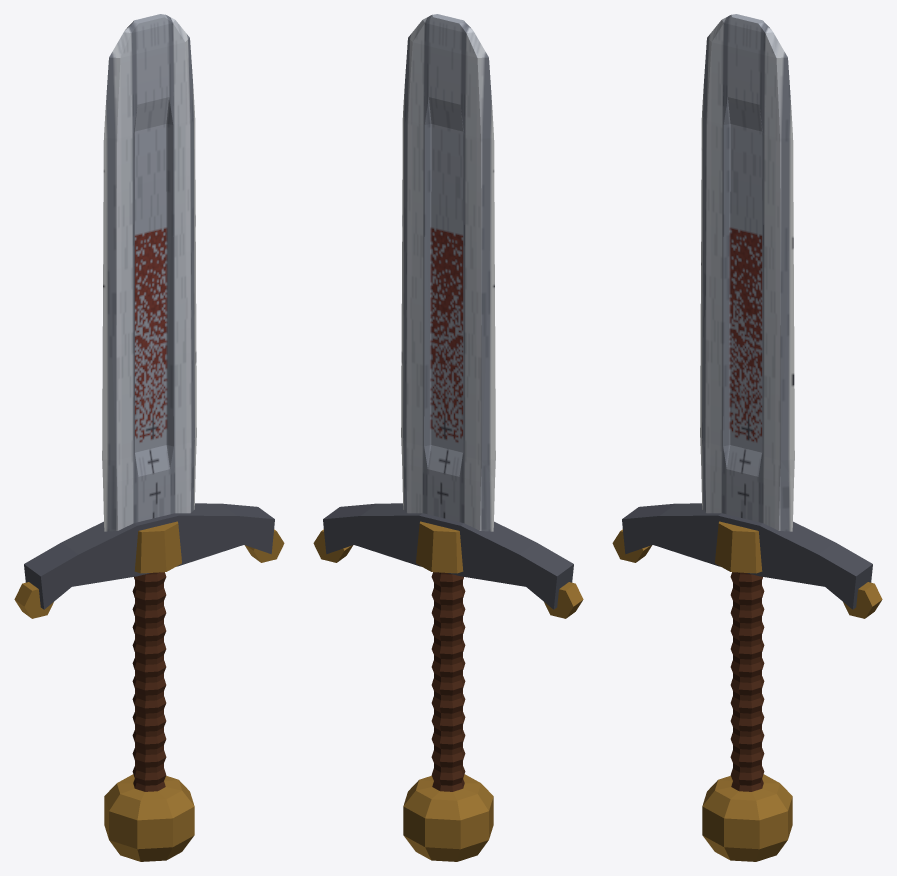
Rendered from executioner.obj.
3 views of the same model, side by side, from view 1: azimuth 30°, elevation 25°; view 2: azimuth 150°, elevation 25°; view 3: azimuth 330°, elevation 25° (orthographic).
Parts seen in each view (by area): view 1: A_Blade.001_executioner_blade, B_Guard.001_executioner_iron, C_Grip.001_executioner_leather, C_Pommel.001_executioner_brass, B_Collar.001_executioner_brass, B_StudL.001_executioner_brass; view 2: A_Blade.001_executioner_blade, B_Guard.001_executioner_iron, C_Grip.001_executioner_leather, C_Pommel.001_executioner_brass, B_Collar.001_executioner_brass, B_StudL.001_executioner_brass; view 3: A_Blade.001_executioner_blade, B_Guard.001_executioner_iron, C_Grip.001_executioner_leather, C_Pommel.001_executioner_brass, B_Collar.001_executioner_brass, B_StudR.001_executioner_brass.
Part boxes in pixels (left/top/right/bottom): A_Blade.001_executioner_blade: left=102, top=14, right=196, bottom=531; B_Guard.001_executioner_iron: left=24, top=503, right=274, bottom=609; C_Grip.001_executioner_leather: left=132, top=572, right=166, bottom=791; C_Pommel.001_executioner_brass: left=104, top=774, right=194, bottom=861; B_Collar.001_executioner_brass: left=134, top=521, right=181, bottom=573; B_StudL.001_executioner_brass: left=14, top=582, right=53, bottom=618; A_Blade.001_executioner_blade: left=401, top=14, right=495, bottom=531; B_Guard.001_executioner_iron: left=323, top=503, right=573, bottom=609; C_Grip.001_executioner_leather: left=431, top=572, right=465, bottom=791; C_Pommel.001_executioner_brass: left=403, top=774, right=493, bottom=861; B_Collar.001_executioner_brass: left=416, top=521, right=463, bottom=573; B_StudL.001_executioner_brass: left=544, top=582, right=583, bottom=618; A_Blade.001_executioner_blade: left=700, top=14, right=794, bottom=531; B_Guard.001_executioner_iron: left=622, top=503, right=872, bottom=609; C_Grip.001_executioner_leather: left=730, top=572, right=764, bottom=791; C_Pommel.001_executioner_brass: left=702, top=774, right=792, bottom=861; B_Collar.001_executioner_brass: left=715, top=521, right=762, bottom=573; B_StudR.001_executioner_brass: left=843, top=582, right=882, bottom=618.
Bounding box in the file's own units: 1.51 × 4.64 × 0.47.
